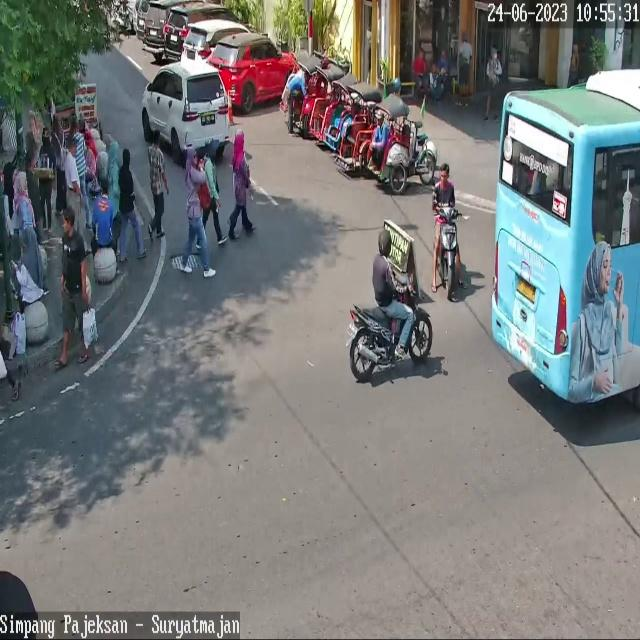bus: (348, 280, 434, 382), (435, 206, 460, 296)
car: (490, 69, 640, 406)
motorcycle: (142, 63, 231, 163), (206, 33, 300, 114), (163, 3, 246, 63), (180, 21, 252, 63), (143, 0, 169, 53)
